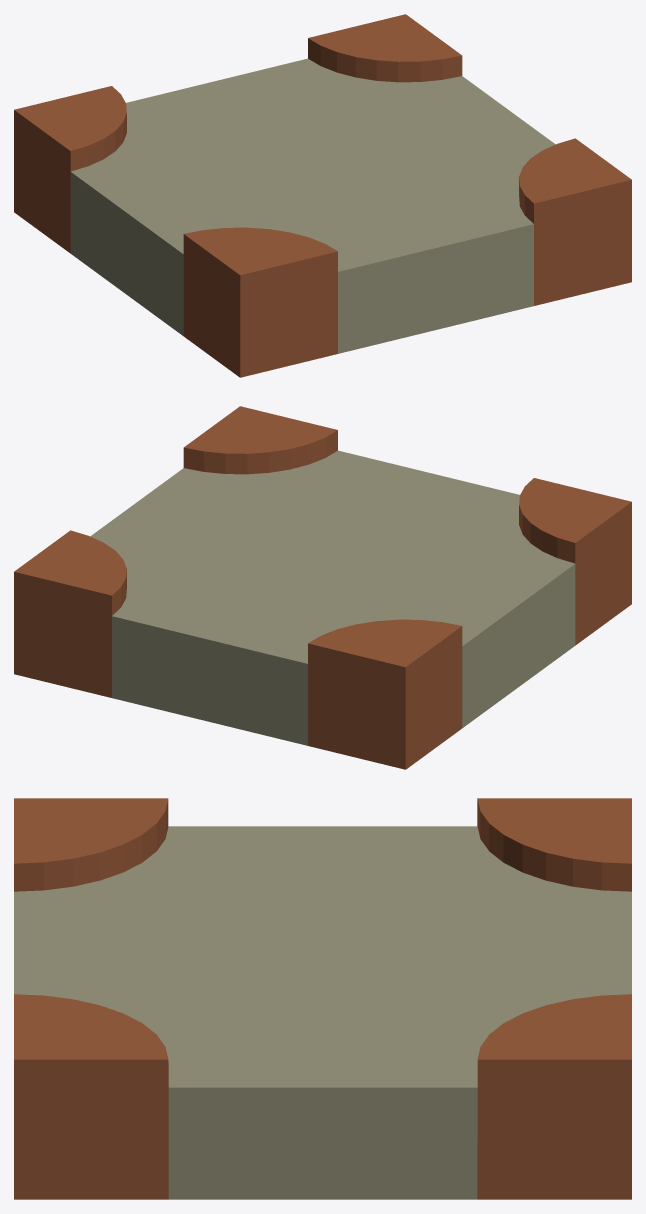
Rendered from Floor-Outdoor-4x4x1-Path-Narrow-Cross.FBX.
3 renders of one model, top to bottom at view 1: azimuth 30°, elevation 25°; view 2: azimuth 150°, elevation 25°; view 3: azimuth 270°, elevation 25°, orthographic. The views are drawn at different scales.
Parts seen in each view (by area): view 1: Floor-Outdoor-4x4x1-Path-Narrow-Cross; view 2: Floor-Outdoor-4x4x1-Path-Narrow-Cross; view 3: Floor-Outdoor-4x4x1-Path-Narrow-Cross.
Boxes of the visible parts, x1,y1,x2,y2 form: Floor-Outdoor-4x4x1-Path-Narrow-Cross: (14,14,631,377); Floor-Outdoor-4x4x1-Path-Narrow-Cross: (14,406,631,769); Floor-Outdoor-4x4x1-Path-Narrow-Cross: (14,798,631,1199).
Size of the model in its own units: 40 by 40 by 10.
